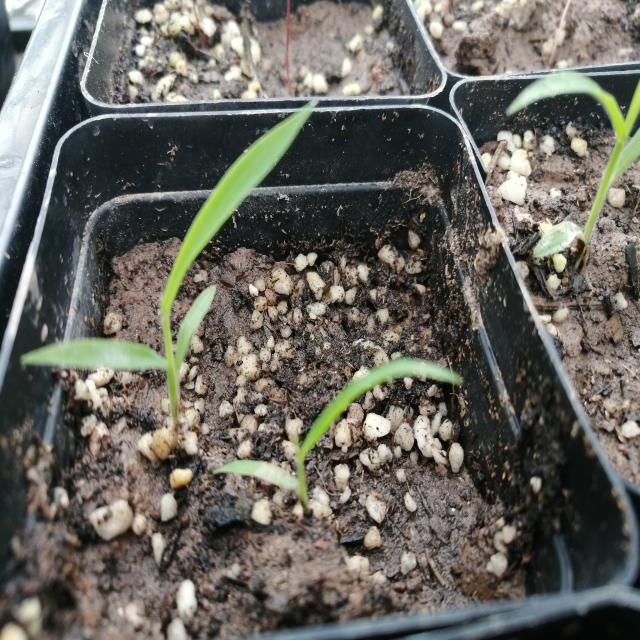crabgrass: (28, 108, 347, 418), (220, 334, 462, 501)
